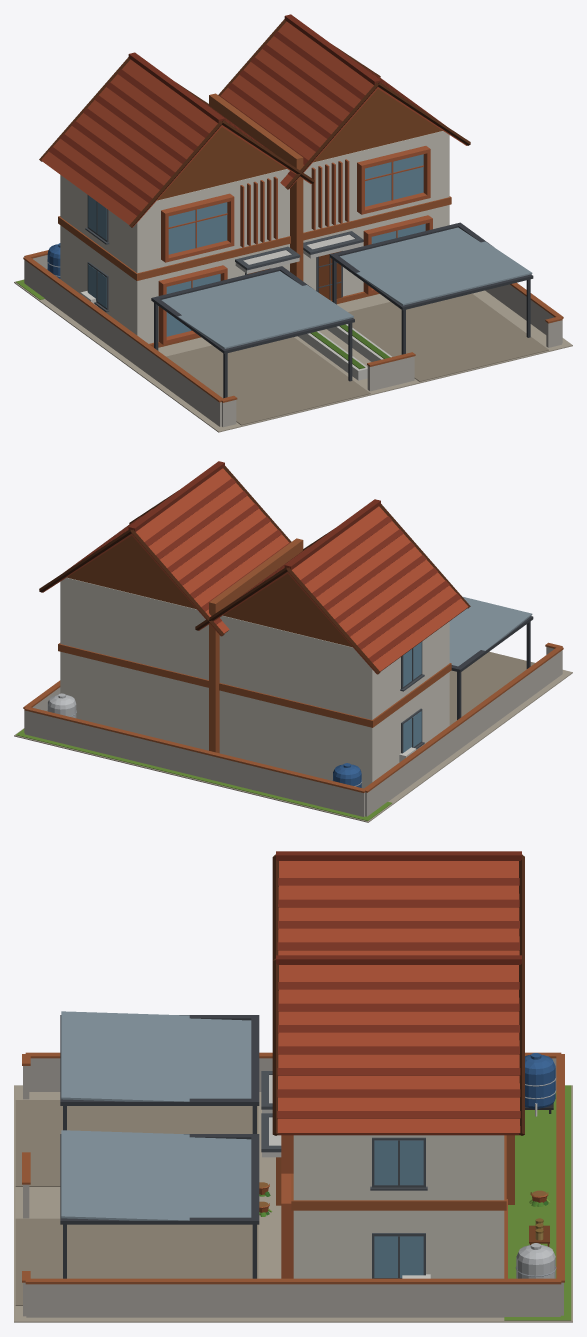
Rendered from home_2.glb.
3 views of the same model, one above another, from view 1: azimuth 30°, elevation 25°; view 2: azimuth 150°, elevation 25°; view 3: azimuth 270°, elevation 25° (orthographic). The views are drawn at different scales.
Visible parts, largest first — view 1: body; view 2: body; view 3: body.
Boxes of the visible parts, left/top/right/bottom form: body: left=14, top=14, right=572, bottom=432; body: left=14, top=461, right=572, bottom=822; body: left=14, top=851, right=572, bottom=1322.
Bounding box in the file's own units: 15.9 × 9.71 × 15.9.
